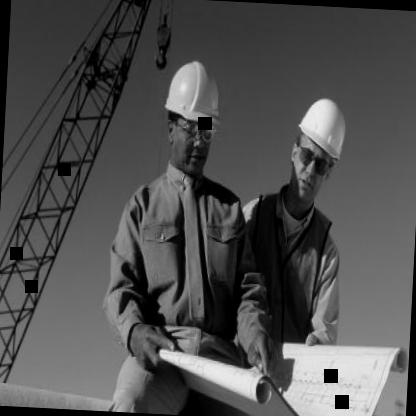helmet: (158, 42, 230, 183), (283, 86, 351, 215)
